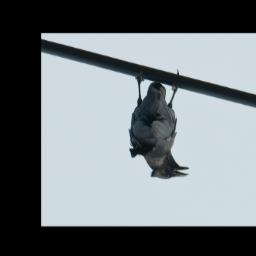Crow: (129, 67, 190, 183)
